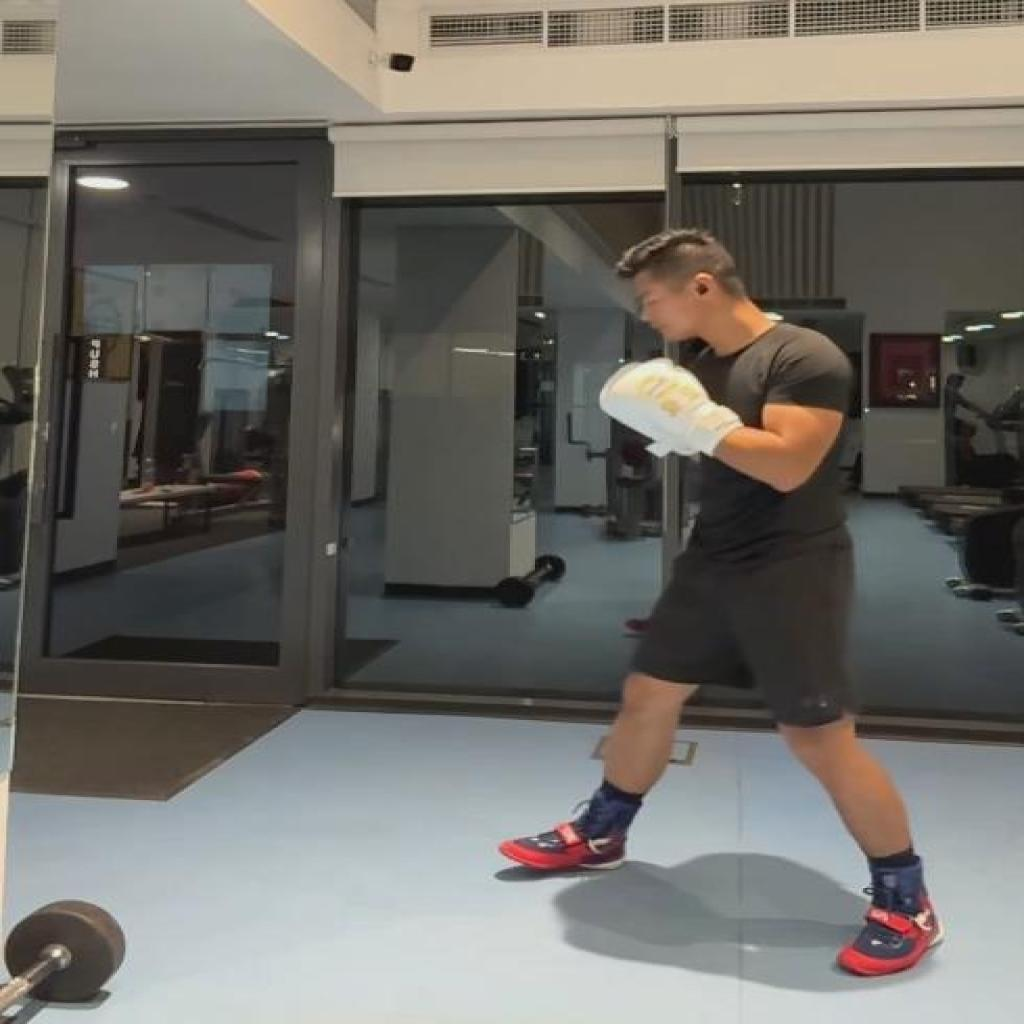no punch: (501, 226, 951, 980)
